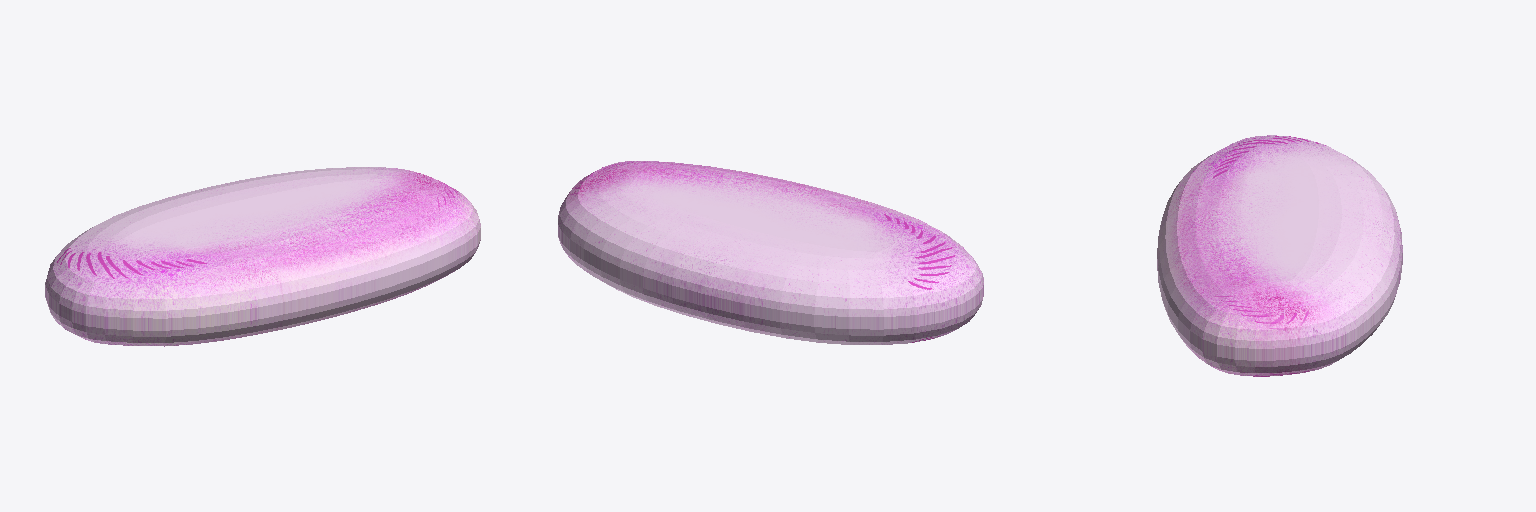
3 renders of one model, left to right at view 1: azimuth 30°, elevation 25°; view 2: azimuth 150°, elevation 25°; view 3: azimuth 270°, elevation 25°, orthographic.
Visible parts, largest first — view 1: Cloud_Maru_01; view 2: Cloud_Maru_01; view 3: Cloud_Maru_01.
Part boxes in pixels (x1,y1,x2,y2): Cloud_Maru_01: (45,167,480,346); Cloud_Maru_01: (558,161,983,344); Cloud_Maru_01: (1157,135,1402,376).
Size of the model in its own units: 0.6667 by 0.1279 by 0.3499.
Materials: 1 (1 with a texture image).